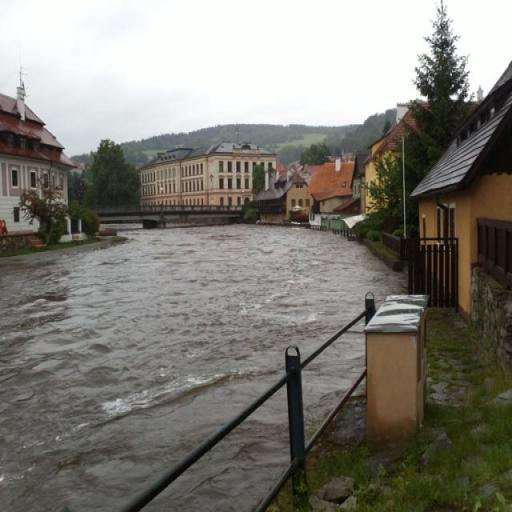flood: (0, 225, 405, 512), (144, 391, 289, 512), (303, 325, 365, 434)
house: (417, 83, 512, 311), (0, 82, 71, 236), (136, 145, 276, 208), (310, 152, 356, 220)
